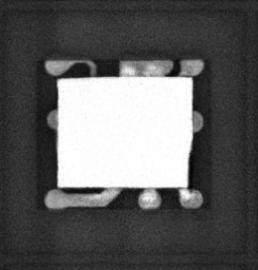DIE_BROKEN: (184, 141, 194, 190)
